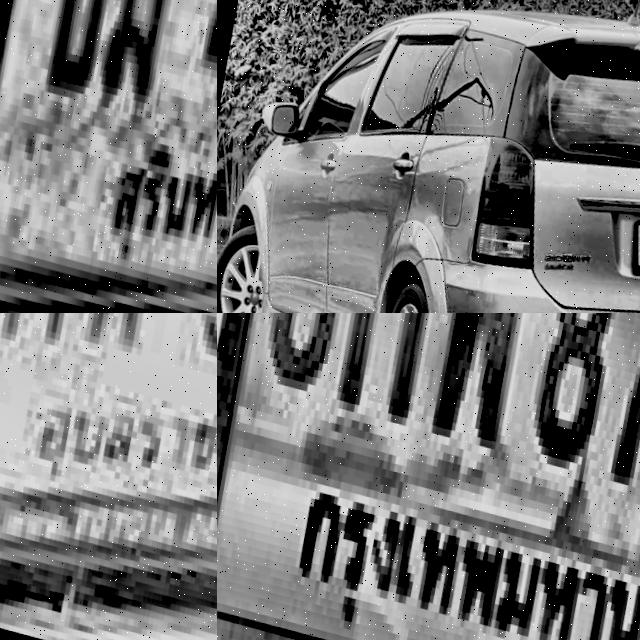license-plate: (217, 313, 640, 640), (0, 313, 217, 640), (0, 0, 217, 313), (618, 194, 640, 289)
